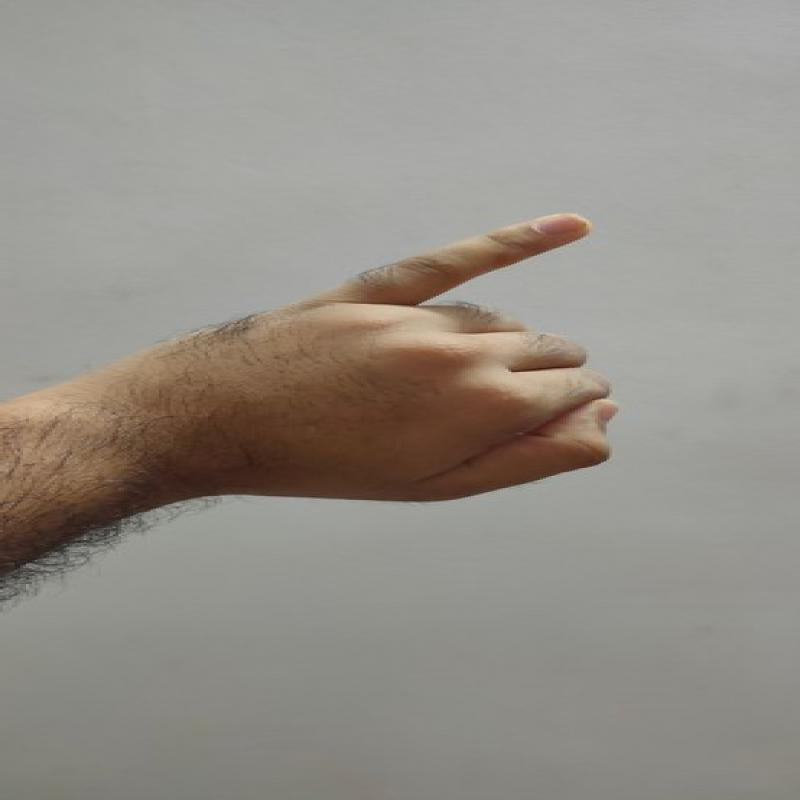Kartharee Mukham: (173, 202, 651, 523)
